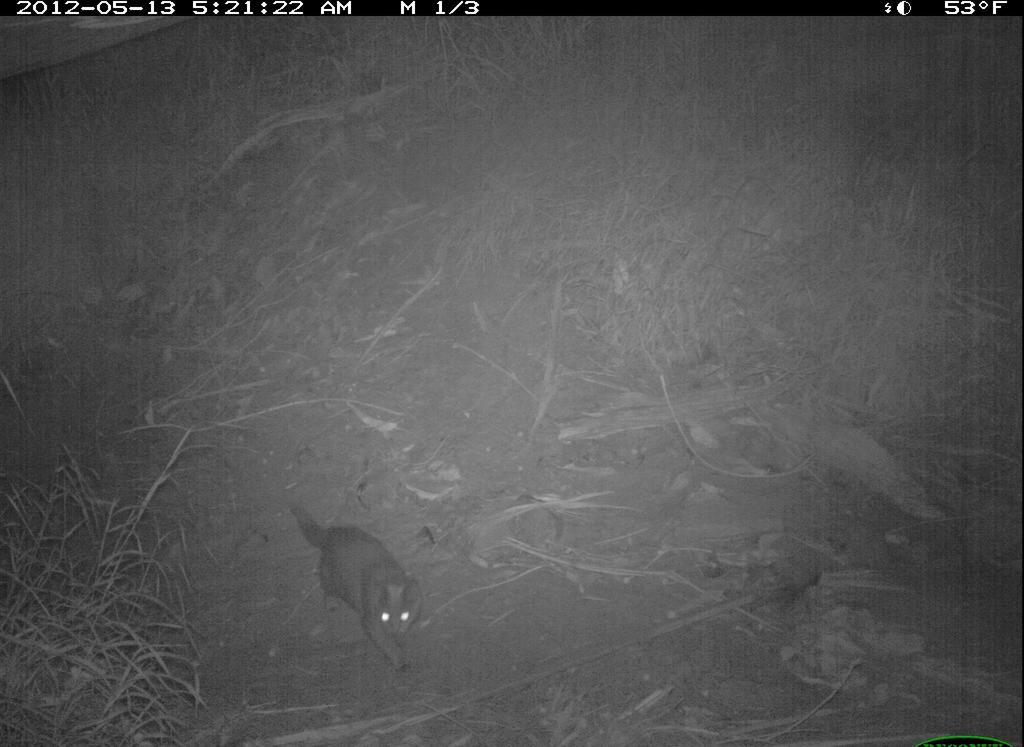cat: (280, 488, 440, 680)
